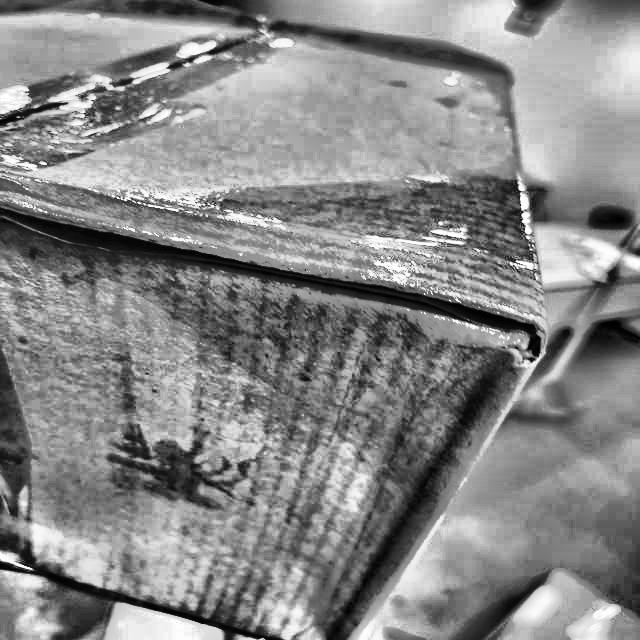box: (0, 0, 549, 640)
wet: (94, 162, 556, 496)
